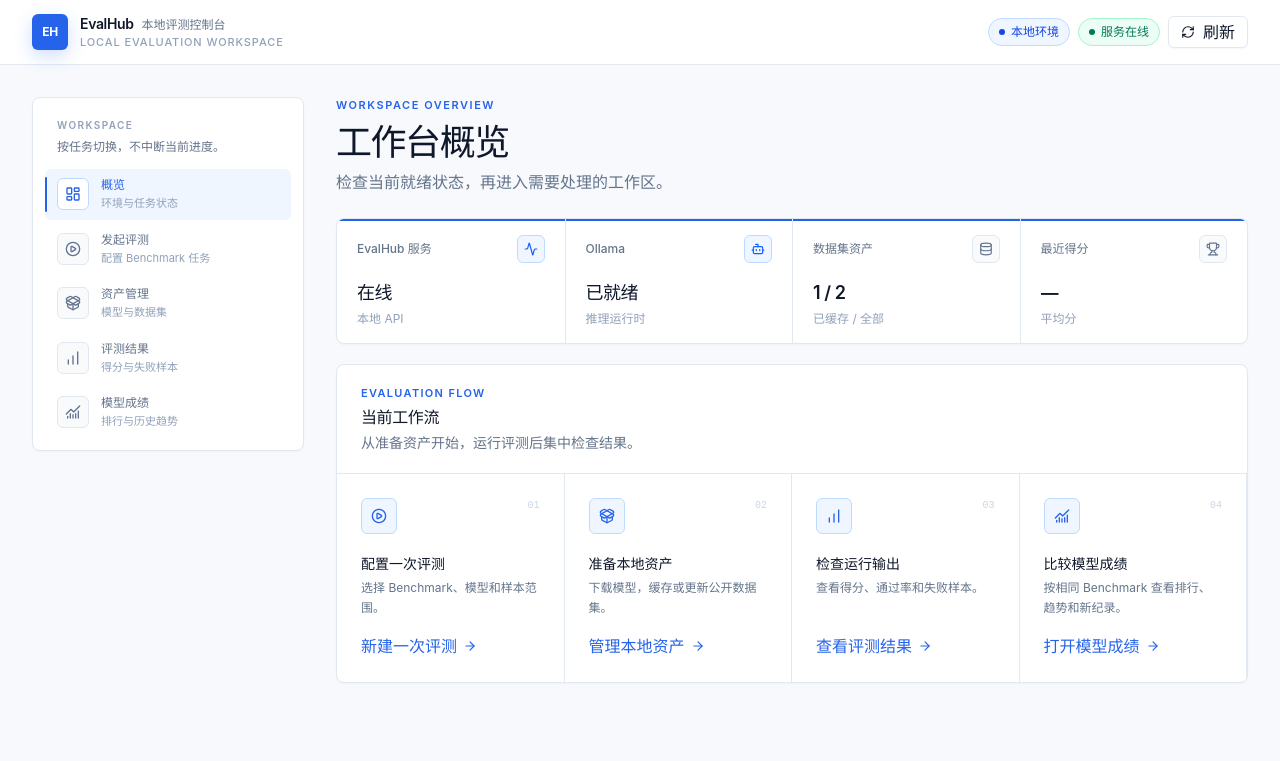
Test: EvalHub console › shows contextual fields for MMLU and custom sample runs
Click the button with aria-label "打开发起评测页面". click: (168, 249)
box: [45, 224, 291, 274]
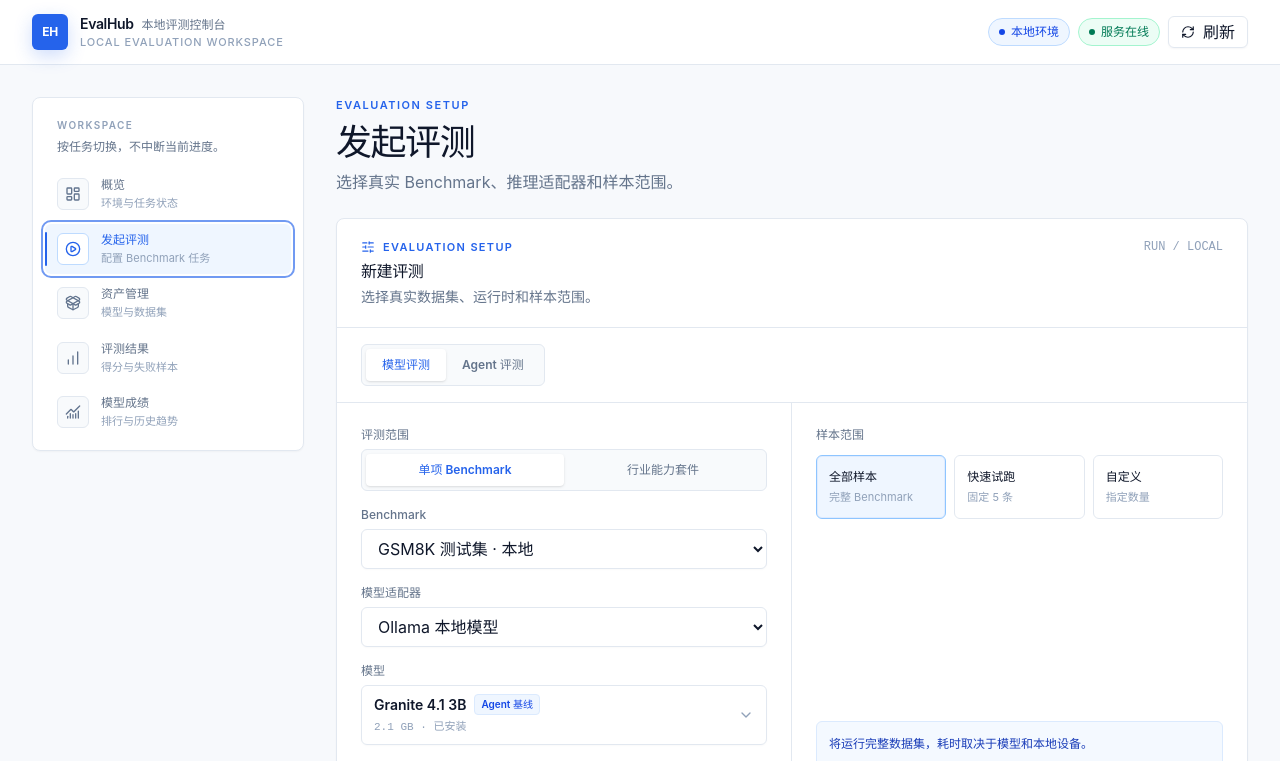
Expected: the field labelled "MMLU 学科" is not shown
Select "MMLU 测试集 · 本地" in the dropdown named "数据集". click: (564, 549)
box: [361, 529, 767, 569]
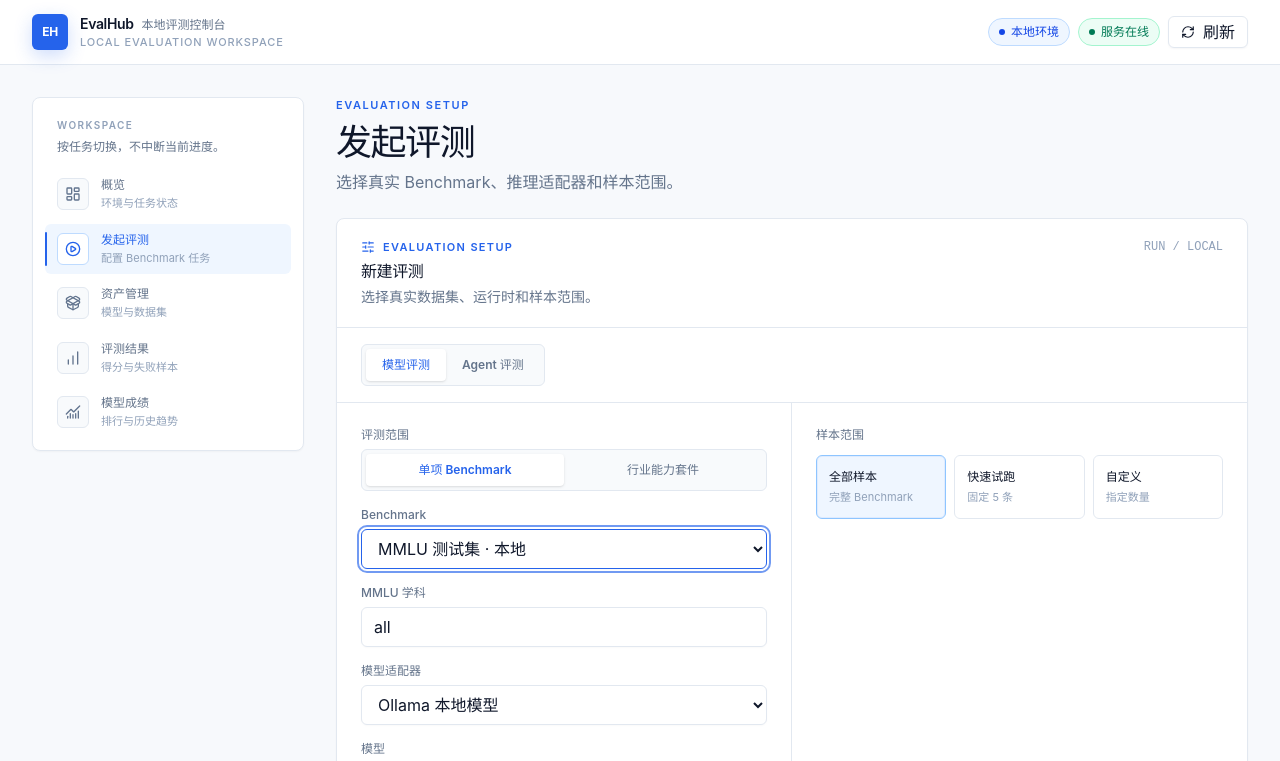
Result: the field labelled "MMLU 学科" holds "all" at [361, 607, 767, 647]
Click the radio button labelled "自定义". click: (1158, 487)
box: [1093, 455, 1223, 519]
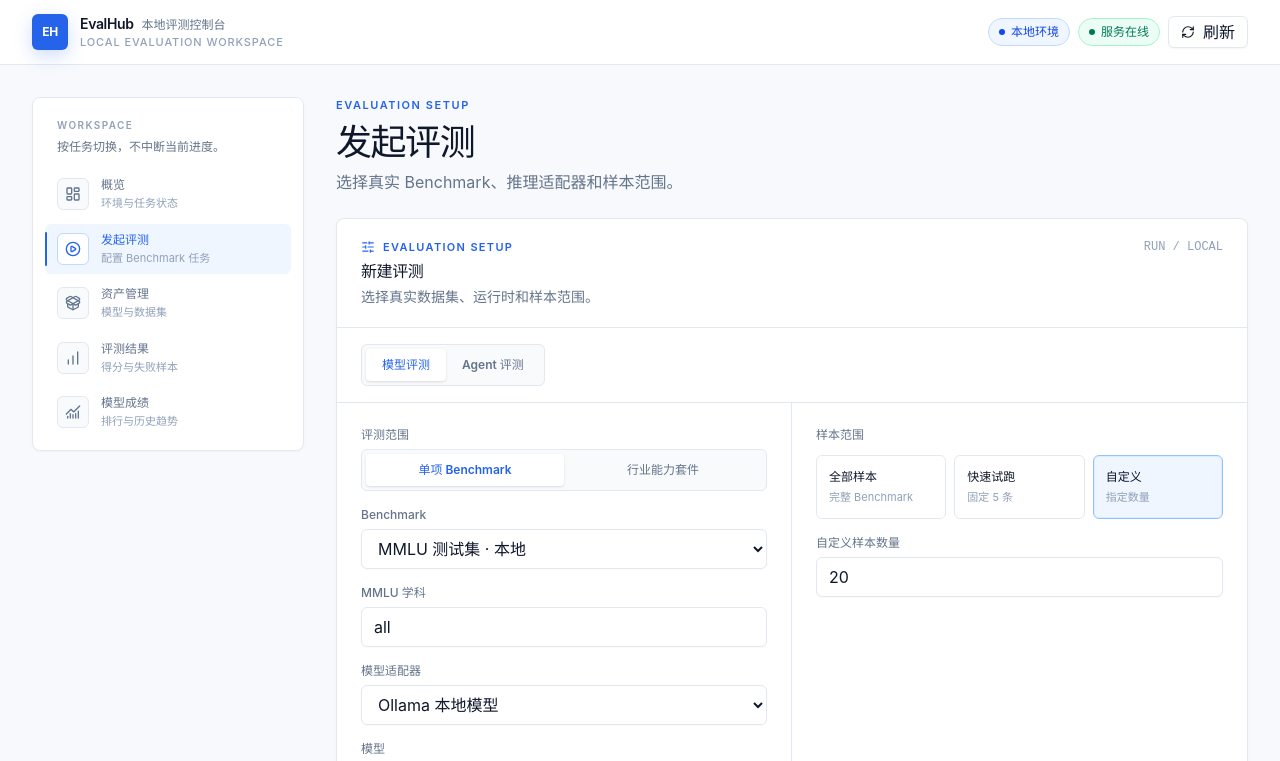
Result: the number field labelled "自定义样本数量" is shown at [816, 557, 1223, 597]
